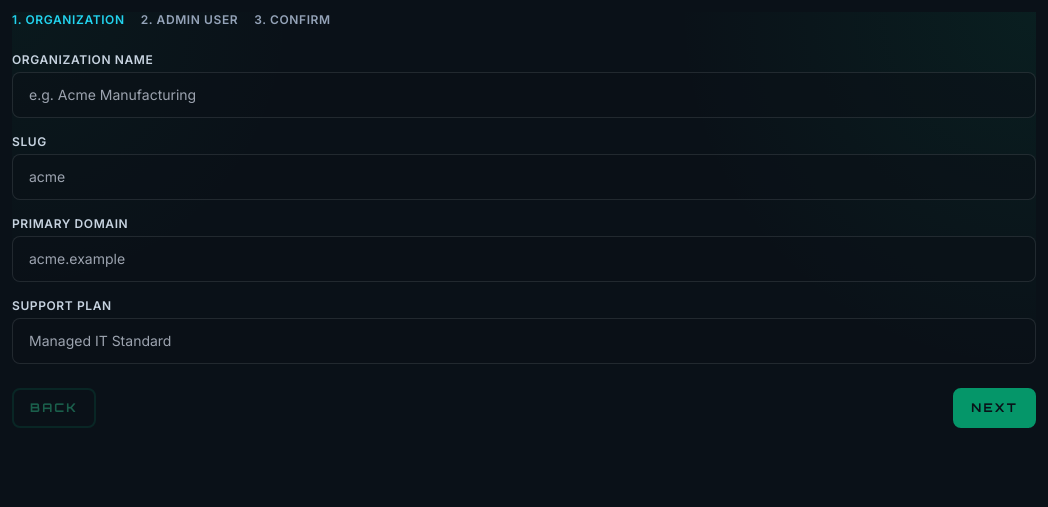
Test: OrganizationOnboardingWizard › validates required fields before advancing
Click the button "Next": [995, 408] box [953, 388, 1036, 428]
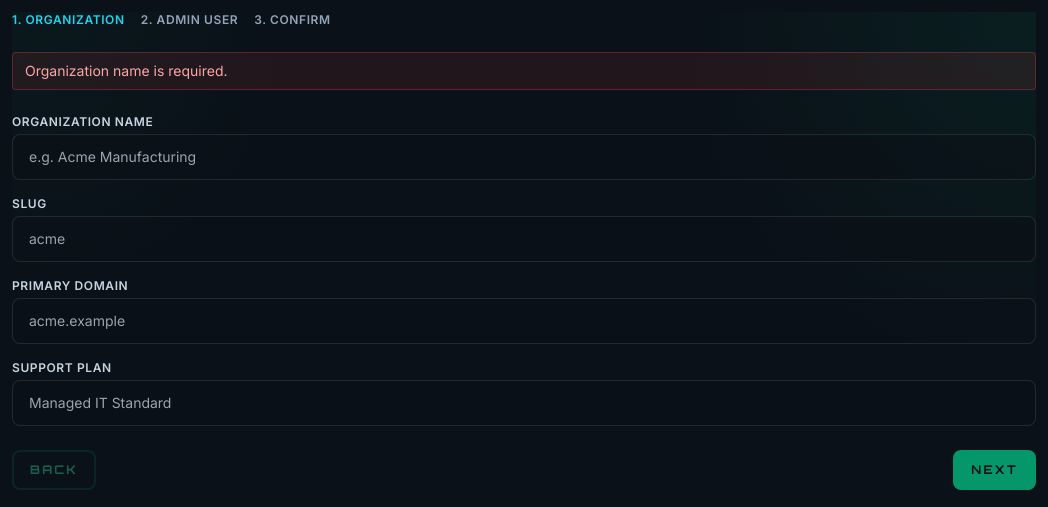
Now the text "Organization name is required." is shown, box [12, 52, 1036, 90]
